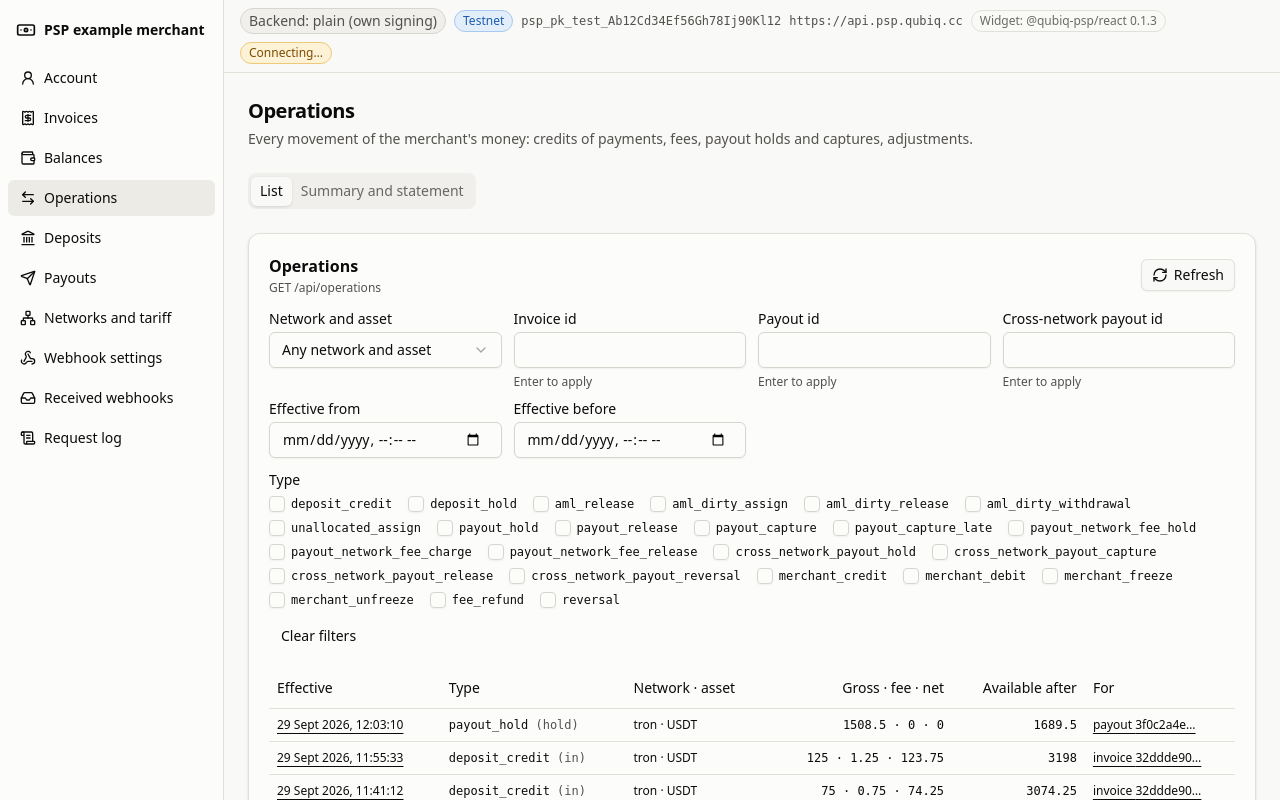
Test: screens › Operations: list, summary, statement JSON and CSV
Click the tab "Summary and statement" at (382, 191), box left=292, top=176, right=473, bottom=206
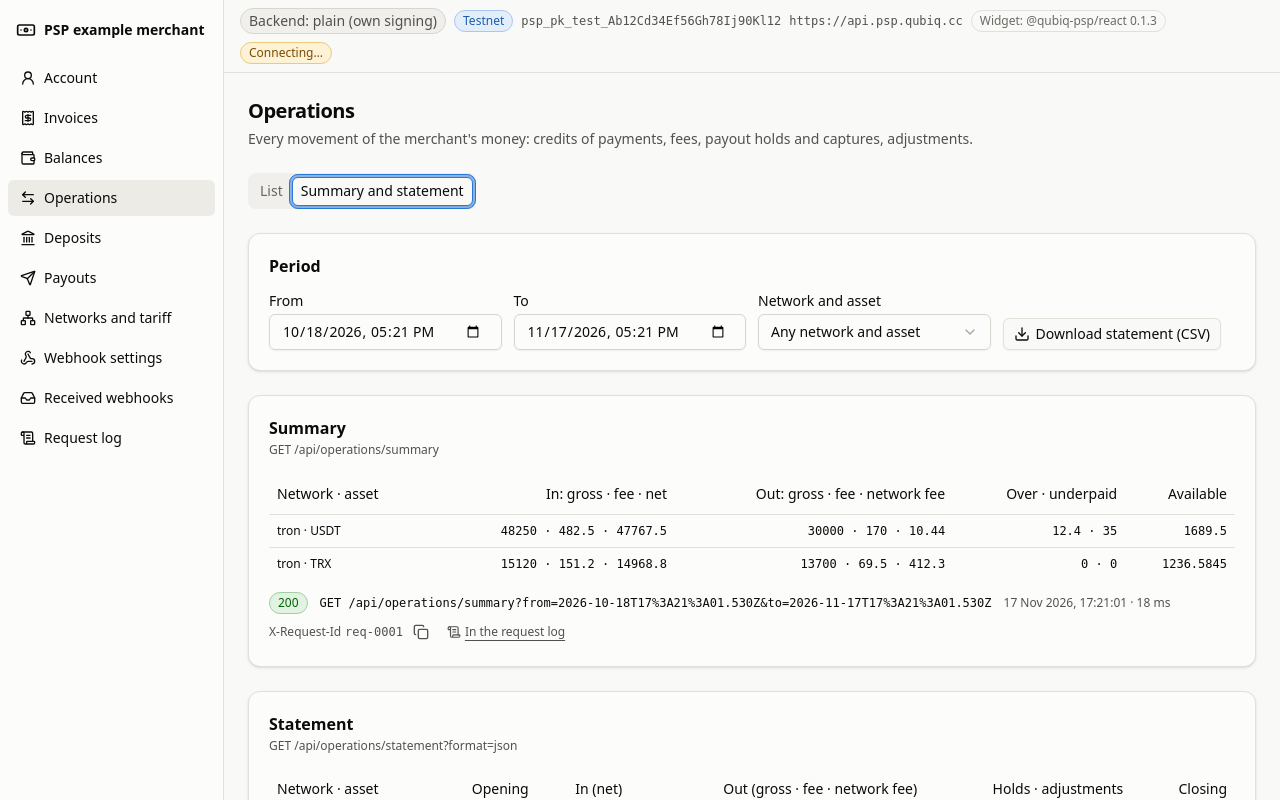
Check: the heading "Statement" is shown, box left=269, top=712, right=354, bottom=734
Click the button "Download statement (CSV)" at (1112, 334), box left=1002, top=318, right=1221, bottom=350
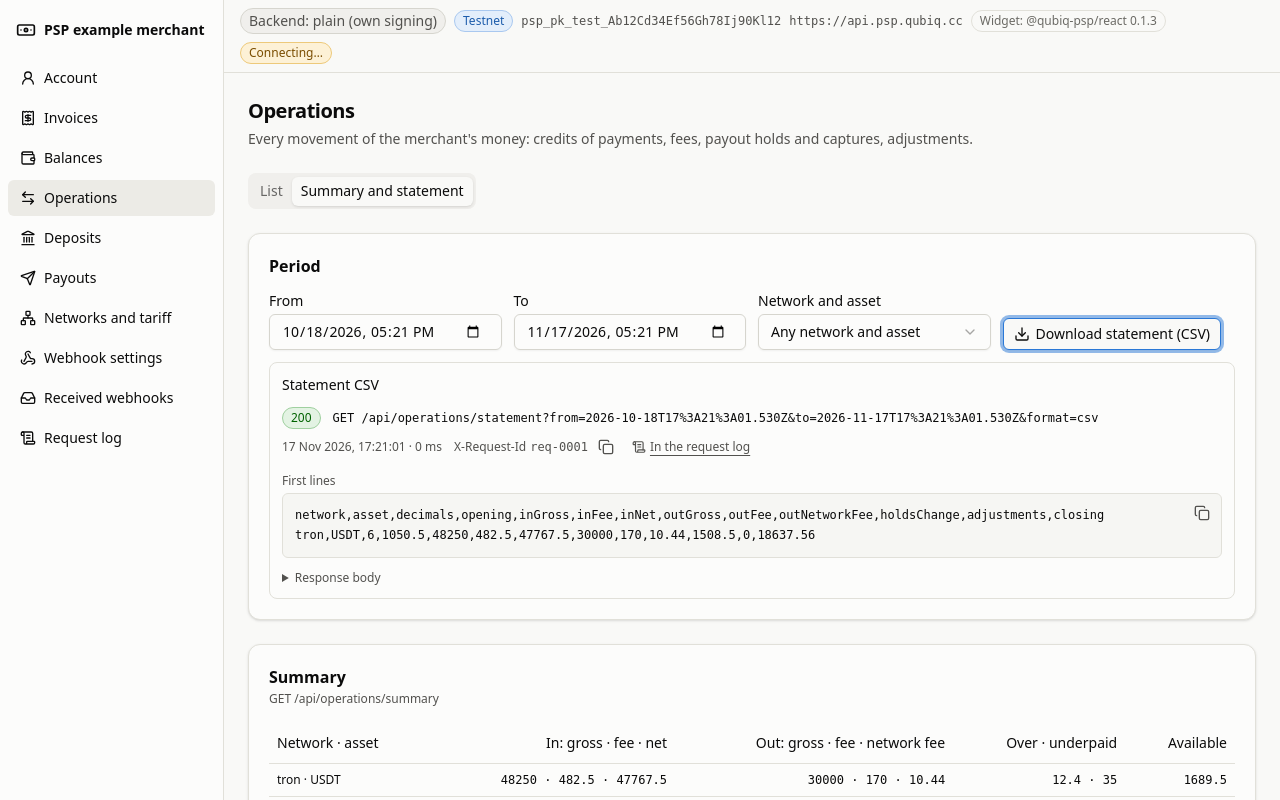
Check: the text named "First lines" shows "network,asset", box left=295, top=508, right=1104, bottom=542
